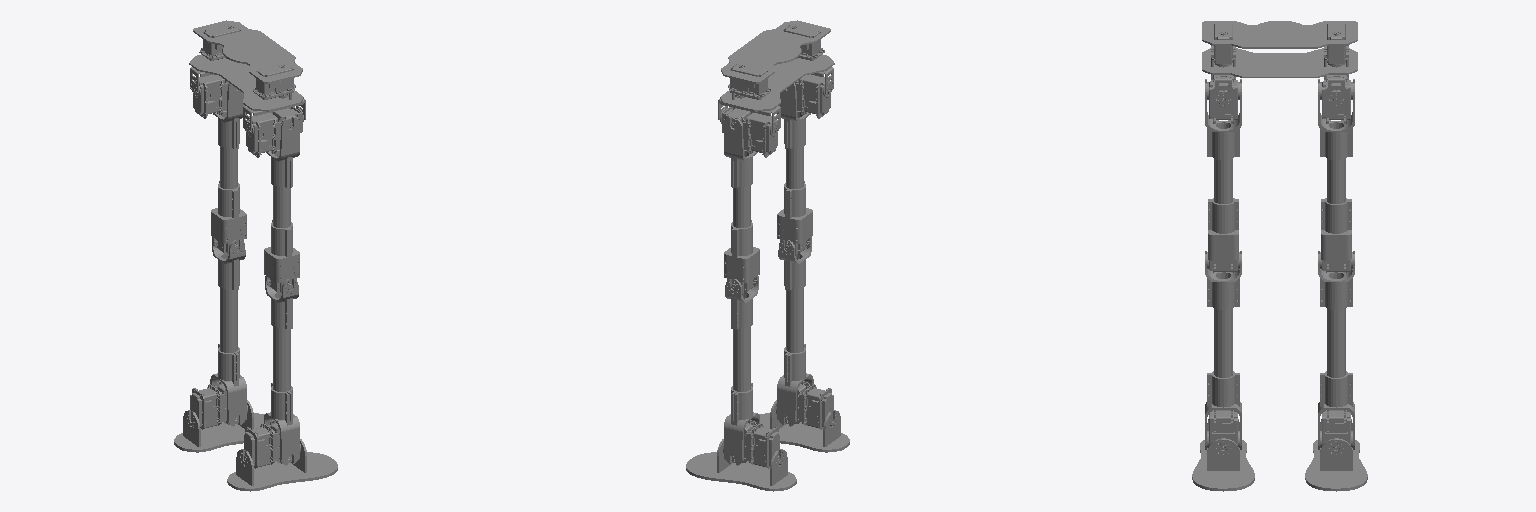
--- Facts derived from the render (not from the file) ---
Views: 3 orthographic renders of the robot side by side, from view 1: azimuth 30°, elevation 25°; view 2: azimuth 150°, elevation 25°; view 3: azimuth 270°, elevation 25°.
Robot: uthai — 15 links, 14 joints (12 revolute, 2 fixed); root link base_link; default pose: every joint at zero.
Links seen in each view (by area): view 1: base_footprint, r_hip_pitch_link, r_knee_pitch_link, l_knee_pitch_link, l_hip_pitch_link, r_ankle_roll_link, l_ankle_roll_link, r_hip_roll_link, l_ankle_pitch_link, r_ankle_pitch_link, l_hip_roll_link; view 2: base_footprint, l_hip_pitch_link, l_knee_pitch_link, r_knee_pitch_link, r_hip_pitch_link, l_ankle_roll_link, r_ankle_roll_link, l_hip_roll_link, l_ankle_pitch_link, r_ankle_pitch_link, r_hip_roll_link; view 3: base_footprint, r_hip_pitch_link, l_hip_pitch_link, l_knee_pitch_link, r_knee_pitch_link, r_ankle_roll_link, l_ankle_roll_link, r_ankle_pitch_link, l_ankle_pitch_link, r_hip_roll_link, l_hip_roll_link.
Link boxes in pixels (x1,y1,x2,y2): base_footprint: [189, 20, 303, 111]; r_hip_pitch_link: [264, 117, 299, 293]; r_knee_pitch_link: [264, 276, 299, 465]; l_knee_pitch_link: [210, 237, 246, 426]; l_hip_pitch_link: [211, 83, 246, 254]; r_ankle_roll_link: [227, 439, 337, 491]; l_ankle_roll_link: [174, 400, 264, 452]; r_hip_roll_link: [245, 107, 303, 157]; l_ankle_pitch_link: [190, 381, 247, 429]; r_ankle_pitch_link: [244, 420, 300, 468]; l_hip_roll_link: [192, 74, 236, 118]; base_footprint: [720, 20, 834, 111]; l_hip_pitch_link: [724, 117, 759, 294]; l_knee_pitch_link: [724, 276, 759, 465]; r_knee_pitch_link: [777, 237, 813, 426]; r_hip_pitch_link: [777, 83, 812, 255]; l_ankle_roll_link: [686, 439, 796, 491]; r_ankle_roll_link: [759, 400, 849, 452]; l_hip_roll_link: [720, 107, 778, 157]; l_ankle_pitch_link: [723, 420, 779, 468]; r_ankle_pitch_link: [776, 381, 833, 429]; r_hip_roll_link: [787, 74, 831, 118]; base_footprint: [1202, 21, 1357, 77]; r_hip_pitch_link: [1205, 79, 1241, 272]; l_hip_pitch_link: [1318, 79, 1354, 272]; l_knee_pitch_link: [1318, 251, 1354, 449]; r_knee_pitch_link: [1205, 251, 1241, 449]; r_ankle_roll_link: [1192, 419, 1254, 491]; l_ankle_roll_link: [1305, 419, 1367, 491]; r_ankle_pitch_link: [1207, 409, 1239, 452]; l_ankle_pitch_link: [1320, 409, 1352, 452]; r_hip_roll_link: [1207, 75, 1239, 123]; l_hip_roll_link: [1320, 75, 1352, 123].
Size in the robot's own frame: 0.2 by 0.2799 by 0.7605 metres.
Meshes: 13 distinct files referenced, 13 mesh visuals loaded (13 binary STL).

The robot description file, URDF, robot "uthai":
<?xml version="1.0" ?>
<!-- =================================================================================== -->
<!-- |    This document was autogenerated by xacro from uthai.urdf.xacro               | -->
<!-- |    EDITING THIS FILE BY HAND IS NOT RECOMMENDED                                 | -->
<!-- =================================================================================== -->
<robot name="uthai" xmlns:xacro="http://www.ros.org/wiki/xacro">
  <material name="black">
    <color rgba="0.0 0.0 0.0 1.0"/>
  </material>
  <material name="blue">
    <color rgba="0.0 0.0 0.8 1.0"/>
  </material>
  <material name="green">
    <color rgba="0.0 0.8 0.0 1.0"/>
  </material>
  <material name="grey">
    <color rgba="0.6 0.6 0.6 1.0"/>
  </material>
  <material name="orange">
    <color rgba="1.0 0.423529411765 0.0392156862745 1.0"/>
  </material>
  <material name="brown">
    <color rgba="0.870588235294 0.811764705882 0.764705882353 1.0"/>
  </material>
  <material name="red">
    <color rgba="0.8 0.0 0.0 1.0"/>
  </material>
  <material name="white">
    <color rgba="1.0 1.0 1.0 1.0"/>
  </material>
  <!-- ros_control plugin -->
  <gazebo>
    <plugin filename="libgazebo_ros_control.so" name="gazebo_ros_control">
      <robotNamespace>/uthai</robotNamespace>
    </plugin>
  </gazebo>
  <gazebo>
    <plugin filename="libgazebo_ros_p3d.so" name="ground_truth">
      <frameName>map</frameName>
      <bodyName>base_link</bodyName>
      <topicName>/uthai/odom</topicName>
      <updateRate>100.0</updateRate>
    </plugin>
  </gazebo>
  <!-- <gazebo><plugin name="imu_plugin" filename="libgazebo_ros_imu.so"><alwaysOn>true</alwaysOn><bodyName>imu_link</bodyName><topicName>/uthai/sensor/imu</topicName><serviceName>imu_service</serviceName><gaussianNoise>0.0</gaussianNoise><updateRate>10.0</updateRate><imu><noise><type>gaussian</type><rate><mean>0.0</mean><stddev>2e-4</stddev><bias_mean>0.0000075</bias_mean><bias_stddev>0.0000008</bias_stddev></rate><accel><mean>0.0</mean><stddev>1.7e-2</stddev><bias_mean>0.1</bias_mean><bias_stddev>0.001</bias_stddev></accel></noise></imu></plugin></gazebo>-->
  <!-- imu sensor -->
  <gazebo reference="imu_link">
    <gravity>true</gravity>
    <sensor name="imu_sensor" type="imu">
      <always_on>true</always_on>
      <update_rate>100</update_rate>
      <visualize>true</visualize>
      <topic>/uthai/sensor/imu</topic>
      <plugin filename="libgazebo_ros_imu_sensor.so" name="imu_plugin">
        <topicName>uthai/sensor/imu</topicName>
        <bodyName>imu_link</bodyName>
        <updateRateHZ>10.0</updateRateHZ>
        <gaussianNoise>0.0</gaussianNoise>
        <xyzOffset>0 0 0</xyzOffset>
        <rpyOffset>0 0 0</rpyOffset>
        <frameName>imu_link</frameName>
      </plugin>
      <pose>0 0 0 0 0 0</pose>
    </sensor>
  </gazebo>
  <!-- World -->
  <!--<gazebo reference="world"></gazebo>-->
  <!-- Base -->
  <gazebo reference="base_link"/>
  <!-- IMU -->
  <gazebo reference="imu_link"/>
  <!-- Body-->
  <gazebo reference="base_footprint">
    <mu1>0.2</mu1>
    <mu2>0.2</mu2>
    <material>Gazebo/Grey</material>
    <selfCollide>false</selfCollide>
  </gazebo>
  <!-- Left Leg -->
  <gazebo reference="l_hip_yaw_link">
    <mu1>0.2</mu1>
    <mu2>0.2</mu2>
    <material>Gazebo/Grey</material>
    <selfCollide>false</selfCollide>
  </gazebo>
  <gazebo reference="l_hip_roll_link">
    <mu1>0.2</mu1>
    <mu2>0.2</mu2>
    <material>Gazebo/Grey</material>
    <selfCollide>false</selfCollide>
  </gazebo>
  <gazebo reference="l_hip_pitch_link">
    <mu1>0.2</mu1>
    <mu2>0.2</mu2>
    <material>Gazebo/Grey</material>
    <selfCollide>false</selfCollide>
  </gazebo>
  <gazebo reference="l_knee_pitch_link">
    <mu1>0.2</mu1>
    <mu2>0.2</mu2>
    <material>Gazebo/Grey</material>
    <selfCollide>false</selfCollide>
  </gazebo>
  <gazebo reference="l_ankle_pitch_link">
    <mu1>0.2</mu1>
    <mu2>0.2</mu2>
    <material>Gazebo/Grey</material>
    <selfCollide>false</selfCollide>
  </gazebo>
  <gazebo reference="l_ankle_roll_link">
    <kp>100000.0</kp>
    <kd>100.0</kd>
    <mu1>1.5</mu1>
    <mu2>1.5</mu2>
    <!--<maxContacts>30</maxContacts>-->
    <fdir1>1 0 0</fdir1>
    <maxVel>1.0</maxVel>
    <minDepth>0.001</minDepth>
    <material>Gazebo/Blue</material>
  </gazebo>
  <!-- Right Leg -->
  <gazebo reference="r_hip_yaw_link">
    <mu1>0.2</mu1>
    <mu2>0.2</mu2>
    <material>Gazebo/Grey</material>
    <selfCollide>false</selfCollide>
  </gazebo>
  <gazebo reference="r_hip_roll_link">
    <mu1>0.2</mu1>
    <mu2>0.2</mu2>
    <material>Gazebo/Grey</material>
    <selfCollide>false</selfCollide>
  </gazebo>
  <gazebo reference="r_hip_pitch_link">
    <mu1>0.2</mu1>
    <mu2>0.2</mu2>
    <material>Gazebo/Grey</material>
    <selfCollide>false</selfCollide>
  </gazebo>
  <gazebo reference="r_knee_pitch_link">
    <mu1>0.2</mu1>
    <mu2>0.2</mu2>
    <material>Gazebo/Grey</material>
    <selfCollide>false</selfCollide>
  </gazebo>
  <gazebo reference="r_ankle_pitch_link">
    <mu1>0.2</mu1>
    <mu2>0.2</mu2>
    <material>Gazebo/Grey</material>
    <selfCollide>false</selfCollide>
  </gazebo>
  <gazebo reference="r_ankle_roll_link">
    <kp>100000.0</kp>
    <kd>100.0</kd>
    <mu1>1.5</mu1>
    <mu2>1.5</mu2>
    <!--<maxContacts>30</maxContacts>-->
    <fdir1>1 0 0</fdir1>
    <maxVel>1.0</maxVel>
    <minDepth>0.0001</minDepth>
    <material>Gazebo/Blue</material>
  </gazebo>
  <!-- Used for fixing robot -->
  <!-- <link name="world"></link> -->
  <!-- <joint name="world_fixed" type="fixed"><origin xyz="0 0 0.756" rpy="0 0 0"/><parent link="world"/><child link="base"/></joint> -->
  <link name="base_link"/>
  <joint name="base_fixed" type="fixed">
    <origin rpy="0 0 0" xyz="0 0 0"/>
    <parent link="base_link"/>
    <child link="base_footprint"/>
  </joint>
  <!-- base_link -->
  <link name="base_footprint">
    <visual>
      <origin rpy="0 0 0" xyz="0 0 0"/>
      <geometry>
        <mesh filename="package://uthai_description/meshes/base.STL" scale="1 1 1"/>
      </geometry>
      <material name="grey"/>
    </visual>
    <collision>
      <origin rpy="0 0 0" xyz="0 0 0"/>
      <geometry>
        <mesh filename="package://uthai_description/meshes/base.STL" scale="1 1 1"/>
      </geometry>
      <material name="grey"/>
    </collision>
    <inertial>
      <origin xyz="-0.00557436 0.00000000 -0.02356598"/>
      <mass value="0.86500000"/>
      <inertia ixx="0.00656431" ixy="-0.00000003" ixz="-0.00000466" iyy="0.00067608" iyz="0.00000000" izz="0.00664141"/>
    </inertial>
  </link>
  <!-- imu joint -->
  <joint name="imu_fixed" type="fixed">
    <origin rpy="0 0 0" xyz="0.0 0 0.45"/>
    <parent link="base_footprint"/>
    <child link="imu_link"/>
  </joint>
  <link name="imu_link"/>
  <!-- right hip yaw joint -->
  <joint name="r_hip_yaw_joint" type="revolute">
    <axis xyz="0 0 1"/>
    <origin rpy="0 0 -1.570796327" xyz="0.008 -0.09 -0.06"/>
    <parent link="base_footprint"/>
    <child link="r_hip_yaw_link"/>
    <limit effort="1000" lower="-2.8274333886" upper="2.8274333886" velocity="100"/>
    <dynamics damping="0.1" friction="0.0"/>
  </joint>
  <transmission name="r_hip_yaw_joint_tran">
    <type>transmission_interface/SimpleTransmission</type>
    <joint name="r_hip_yaw_joint">
      <hardwareInterface>EffortJointInterface</hardwareInterface>
    </joint>
    <actuator name="r_hip_yaw_joint_motor">
      <hardwareInterface>EffortJointInterface</hardwareInterface>
      <mechanicalReduction>1</mechanicalReduction>
    </actuator>
  </transmission>
  <!-- right hip yaw link -->
  <link name="r_hip_yaw_link">
    <visual>
      <origin rpy="0 0 0" xyz="0 0 0"/>
      <geometry>
        <mesh filename="package://uthai_description/meshes/r_hip_yaw.STL" scale="1 1 1"/>
      </geometry>
      <material name="grey"/>
    </visual>
    <collision>
      <origin rpy="0 0 0" xyz="0 0 0"/>
      <geometry>
        <mesh filename="package://uthai_description/meshes/r_hip_yaw.STL" scale="1 1 1"/>
      </geometry>
      <material name="grey"/>
    </collision>
    <inertial>
      <origin xyz="0.00000000 -0.02500000 -0.00735017"/>
      <mass value="0.09100000"/>
      <inertia ixx="0.00014158" ixy="0.00000000" ixz="0.00000000" iyy="0.00002022" iyz="0.00000000" izz="0.00014316"/>
    </inertial>
  </link>
  <!-- right hip roll joint-->
  <joint name="r_hip_roll_joint" type="revolute">
    <axis xyz="0 0 1"/>
    <origin rpy="1.570796327 0 3.141592654" xyz="0 0 -0.036"/>
    <parent link="r_hip_yaw_link"/>
    <child link="r_hip_roll_link"/>
    <limit effort="1000" lower="-2.8274333886" upper="2.8274333886" velocity="100"/>
    <dynamics damping="0.1" friction="0.0"/>
  </joint>
  <transmission name="r_hip_roll_joint_tran">
    <type>transmission_interface/SimpleTransmission</type>
    <joint name="r_hip_roll_joint">
      <hardwareInterface>EffortJointInterface</hardwareInterface>
    </joint>
    <actuator name="r_hip_roll_joint_motor">
      <hardwareInterface>EffortJointInterface</hardwareInterface>
      <mechanicalReduction>1</mechanicalReduction>
    </actuator>
  </transmission>
  <!-- right hip roll link -->
  <link name="r_hip_roll_link">
    <visual>
      <origin rpy="0 0 0" xyz="0 0 0"/>
      <geometry>
        <mesh filename="package://uthai_description/meshes/r_hip_roll.STL" scale="1 1 1"/>
      </geometry>
      <material name="grey"/>
    </visual>
    <collision>
      <origin rpy="0 0 0" xyz="0 0 0"/>
      <geometry>
        <mesh filename="package://uthai_description/meshes/r_hip_roll.STL" scale="1 1 1"/>
      </geometry>
      <material name="grey"/>
    </collision>
    <inertial>
      <origin xyz="0.00000000 -0.01526210 -0.02652545"/>
      <mass value="0.34300000"/>
      <inertia ixx="0.00032449" ixy="0.00000081" ixz="0.00000000" iyy="0.00026847" iyz="0.00000219" izz="0.00014760"/>
    </inertial>
  </link>
  <!-- right hip pitch joint -->
  <joint name="r_hip_pitch_joint" type="revolute">
    <axis xyz="0 0 1"/>
    <origin rpy="-1.570796327 0 -1.570796327" xyz="0 0 -0.005"/>
    <parent link="r_hip_roll_link"/>
    <child link="r_hip_pitch_link"/>
    <limit effort="1000" lower="-2.8274333886" upper="2.8274333886" velocity="100"/>
    <dynamics damping="0.1" friction="0.0"/>
  </joint>
  <transmission name="r_hip_pitch_joint_tran">
    <type>transmission_interface/SimpleTransmission</type>
    <joint name="r_hip_pitch_joint">
      <hardwareInterface>EffortJointInterface</hardwareInterface>
    </joint>
    <actuator name="r_hip_pitch_joint_motor">
      <hardwareInterface>EffortJointInterface</hardwareInterface>
      <mechanicalReduction>1</mechanicalReduction>
    </actuator>
  </transmission>
  <!-- right hip pitch link -->
  <link name="r_hip_pitch_link">
    <visual>
      <origin rpy="0 0 0" xyz="0 0 0"/>
      <geometry>
        <mesh filename="package://uthai_description/meshes/r_hip_pitch.STL" scale="1 1 1"/>
      </geometry>
      <material name="grey"/>
    </visual>
    <collision>
      <origin rpy="0 0 0" xyz="0 0 0"/>
      <geometry>
        <mesh filename="package://uthai_description/meshes/r_hip_pitch.STL" scale="1 1 1"/>
      </geometry>
      <material name="grey"/>
    </collision>
    <inertial>
      <origin xyz="0.22137989 0.00000000 0.00000000"/>
      <mass value="0.31800000"/>
      <inertia ixx="0.00011525" ixy="0.00000000" ixz="0.00000078" iyy="0.00254669" iyz="0.00000000" izz="0.00250848"/>
    </inertial>
  </link>
  <!-- right knee pitch joint -->
  <joint name="r_knee_pitch_joint" type="revolute">
    <axis xyz="0 0 1"/>
    <origin rpy="0 0 0" xyz="0.3 0 0"/>
    <parent link="r_hip_pitch_link"/>
    <child link="r_knee_pitch_link"/>
    <limit effort="1000" lower="-2.8274333886" upper="2.8274333886" velocity="100"/>
    <dynamics damping="0.1" friction="0.0"/>
  </joint>
  <transmission name="r_knee_pitch_joint_tran">
    <type>transmission_interface/SimpleTransmission</type>
    <joint name="r_knee_pitch_joint">
      <hardwareInterface>EffortJointInterface</hardwareInterface>
    </joint>
    <actuator name="r_knee_pitch_joint_motor">
      <hardwareInterface>EffortJointInterface</hardwareInterface>
      <mechanicalReduction>1</mechanicalReduction>
    </actuator>
  </transmission>
  <!-- right knee pitch link -->
  <link name="r_knee_pitch_link">
    <visual>
      <origin rpy="0 0 0" xyz="0 0 0"/>
      <geometry>
        <mesh filename="package://uthai_description/meshes/r_knee_pitch.STL" scale="1 1 1"/>
      </geometry>
      <material name="grey"/>
    </visual>
    <collision>
      <origin rpy="0 0 0" xyz="0 0 0"/>
      <geometry>
        <mesh filename="package://uthai_description/meshes/r_knee_pitch.STL" scale="1 1 1"/>
      </geometry>
      <material name="grey"/>
    </collision>
    <inertial>
      <origin xyz="0.16288218 0.00000000 0.00000000"/>
      <mass value="0.15100000"/>
      <inertia ixx="0.00006340" ixy="0.0" ixz="0.0" iyy="0.00139612" iyz="0.0" izz="0.00136731"/>
    </inertial>
  </link>
  <!-- right ankle pitch joint -->
  <joint name="r_ankle_pitch_joint" type="revolute">
    <axis xyz="0 0 1"/>
    <origin rpy="0 0 0" xyz="0.315 0 0"/>
    <parent link="r_knee_pitch_link"/>
    <child link="r_ankle_pitch_link"/>
    <limit effort="1000" lower="-2.8274333886" upper="2.8274333886" velocity="100"/>
    <dynamics damping="0.1" friction="0.0"/>
  </joint>
  <transmission name="r_ankle_pitch_joint_tran">
    <type>transmission_interface/SimpleTransmission</type>
    <joint name="r_ankle_pitch_joint">
      <hardwareInterface>EffortJointInterface</hardwareInterface>
    </joint>
    <actuator name="r_ankle_pitch_joint_motor">
      <hardwareInterface>EffortJointInterface</hardwareInterface>
      <mechanicalReduction>1</mechanicalReduction>
    </actuator>
  </transmission>
  <!-- right ankle pitch link -->
  <link name="r_ankle_pitch_link">
    <visual>
      <origin rpy="0 0 0" xyz="0 0 0"/>
      <geometry>
        <mesh filename="package://uthai_description/meshes/r_ankle_pitch.STL" scale="1 1 1"/>
      </geometry>
      <material name="grey"/>
    </visual>
    <collision>
      <origin rpy="0 0 0" xyz="0 0 0"/>
      <geometry>
        <mesh filename="package://uthai_description/meshes/r_ankle_pitch.STL" scale="1 1 1"/>
      </geometry>
      <material name="grey"/>
    </collision>
    <inertial>
      <origin xyz="-0.01526210 0.02152545 0.00000000"/>
      <mass value="0.34300000"/>
      <inertia ixx="0.00026847" ixy="-0.00000219" ixz="-0.00000081" iyy="0.00014760" iyz="0.00000000" izz="0.00032449"/>
    </inertial>
  </link>
  <!-- right ankle roll pitch -->
  <joint name="r_ankle_roll_joint" type="revolute">
    <axis xyz="0 0 1"/>
    <origin rpy="1.570796327 0 0" xyz="0 0 0"/>
    <parent link="r_ankle_pitch_link"/>
    <child link="r_ankle_roll_link"/>
    <limit effort="1000" lower="-2.8274333886" upper="2.8274333886" velocity="100"/>
    <dynamics damping="0.1" friction="0.0"/>
  </joint>
  <transmission name="r_ankle_roll_joint_tran">
    <type>transmission_interface/SimpleTransmission</type>
    <joint name="r_ankle_roll_joint">
      <hardwareInterface>EffortJointInterface</hardwareInterface>
    </joint>
    <actuator name="r_ankle_roll_joint_motor">
      <hardwareInterface>EffortJointInterface</hardwareInterface>
      <mechanicalReduction>1</mechanicalReduction>
    </actuator>
  </transmission>
  <!-- right ankle roll link -->
  <link name="r_ankle_roll_link">
    <visual>
      <origin rpy="0 0 0" xyz="0 0 0"/>
      <geometry>
        <mesh filename="package://uthai_description/meshes/r_ankle_roll.STL" scale="1 1 1"/>
      </geometry>
      <material name="grey"/>
    </visual>
    <collision>
      <origin rpy="0 0 0" xyz="0 0 0"/>
      <geometry>
        <mesh filename="package://uthai_description/meshes/r_ankle_roll.STL" scale="1 1 1"/>
      </geometry>
      <material name="grey"/>
    </collision>
    <inertial>
      <origin xyz="0.03625882 -0.00019548 0.00034576"/>
      <mass value="0.10500000"/>
      <inertia ixx="0.00034591" ixy="-0.00000013" ixz="0.00000857" iyy="0.00032705" iyz="0.00000120" izz="0.00004813"/>
    </inertial>
  </link>
  <!-- right ft fixed joint -->
  <!--<joint name="r_ft_fixed" type="fixed">
            <origin xyz="0.045 0.0 0.0" rpy="0 ${-pi/2} 0"/>
            <parent link="r_ankle_roll_link"/>
            <child link="r_foot_ft_link"/>
        </joint>-->
  <!-- right foot ft link -->
  <!--<link name="r_foot_ft_link"></link>-->
  <!-- left hip yaw joint -->
  <joint name="l_hip_yaw_joint" type="revolute">
    <axis xyz="0 0 1"/>
    <origin rpy="0 0 1.570796327" xyz="0.008 0.09 -0.06"/>
    <parent link="base_footprint"/>
    <child link="l_hip_yaw_link"/>
    <limit effort="1000" lower="-2.8274333886" upper="2.8274333886" velocity="100"/>
    <dynamics damping="0.1" friction="0.0"/>
  </joint>
  <transmission name="l_hip_yaw_joint_tran">
    <type>transmission_interface/SimpleTransmission</type>
    <joint name="l_hip_yaw_joint">
      <hardwareInterface>EffortJointInterface</hardwareInterface>
    </joint>
    <actuator name="l_hip_yaw_joint_motor">
      <hardwareInterface>EffortJointInterface</hardwareInterface>
      <mechanicalReduction>1</mechanicalReduction>
    </actuator>
  </transmission>
  <!-- left hip yaw link -->
  <link name="l_hip_yaw_link">
    <visual>
      <origin rpy="0 0 0" xyz="0 0 0"/>
      <geometry>
        <mesh filename="package://uthai_description/meshes/l_hip_yaw.STL" scale="1 1 1"/>
      </geometry>
      <material name="grey"/>
    </visual>
    <collision>
      <origin rpy="0 0 0" xyz="0 0 0"/>
      <geometry>
        <mesh filename="package://uthai_description/meshes/l_hip_yaw.STL" scale="1 1 1"/>
      </geometry>
      <material name="grey"/>
    </collision>
    <inertial>
      <origin xyz="0.00000000 0.02500000 -0.00735017"/>
      <mass value="0.09100000"/>
      <inertia ixx="0.00014158" ixy="0.0" ixz="0.0" iyy="0.00002022" iyz="0.0" izz="0.00014316"/>
    </inertial>
  </link>
  <!-- left hip roll joint-->
  <joint name="l_hip_roll_joint" type="revolute">
    <axis xyz="0 0 1"/>
    <origin rpy="1.570796327 0 0" xyz="0 0 -0.036"/>
    <parent link="l_hip_yaw_link"/>
    <child link="l_hip_roll_link"/>
    <limit effort="1000" lower="-2.8274333886" upper="2.8274333886" velocity="100"/>
    <dynamics damping="0.1" friction="0.0"/>
  </joint>
  <transmission name="l_hip_roll_joint_tran">
    <type>transmission_interface/SimpleTransmission</type>
    <joint name="l_hip_roll_joint">
      <hardwareInterface>EffortJointInterface</hardwareInterface>
    </joint>
    <actuator name="l_hip_roll_joint_motor">
      <hardwareInterface>EffortJointInterface</hardwareInterface>
      <mechanicalReduction>1</mechanicalReduction>
    </actuator>
  </transmission>
  <!-- left hip roll link -->
  <link name="l_hip_roll_link">
    <visual>
      <origin rpy="0 0 0" xyz="0 0 0"/>
      <geometry>
        <mesh filename="package://uthai_description/meshes/l_hip_roll.STL" scale="1 1 1"/>
      </geometry>
      <material name="grey"/>
    </visual>
    <collision>
      <origin rpy="0 0 0" xyz="0 0 0"/>
      <geometry>
        <mesh filename="package://uthai_description/meshes/l_hip_roll.STL" scale="1 1 1"/>
      </geometry>
      <material name="grey"/>
    </collision>
    <inertial>
      <origin xyz="0.00000000 -0.01526210 -0.02652545"/>
      <mass value="0.34300000"/>
      <inertia ixx="0.00032449" ixy="-0.00000081" ixz="0.00000000" iyy="0.00026847" iyz="0.00000219" izz="0.00014760"/>
    </inertial>
  </link>
  <!-- left hip pitch joint -->
  <joint name="l_hip_pitch_joint" type="revolute">
    <axis xyz="0 0 1"/>
    <origin rpy="-1.570796327 0 -1.570796327" xyz="0 0 -0.005"/>
    <parent link="l_hip_roll_link"/>
    <child link="l_hip_pitch_link"/>
    <limit effort="1000" lower="-2.8274333886" upper="2.8274333886" velocity="100"/>
    <dynamics damping="0.1" friction="0.0"/>
  </joint>
  <transmission name="l_hip_pitch_joint_tran">
    <type>transmission_interface/SimpleTransmission</type>
    <joint name="l_hip_pitch_joint">
      <hardwareInterface>EffortJointInterface</hardwareInterface>
    </joint>
    <actuator name="l_hip_pitch_joint_motor">
      <hardwareInterface>EffortJointInterface</hardwareInterface>
      <mechanicalReduction>1</mechanicalReduction>
    </actuator>
  </transmission>
  <!-- left hip pitch link -->
  <link name="l_hip_pitch_link">
    <visual>
      <origin rpy="0 0 0" xyz="0 0 0"/>
      <geometry>
        <mesh filename="package://uthai_description/meshes/l_hip_pitch.STL" scale="1 1 1"/>
      </geometry>
      <material name="grey"/>
    </visual>
    <collision>
      <origin rpy="0 0 0" xyz="0 0 0"/>
      <geometry>
        <mesh filename="package://uthai_description/meshes/l_hip_pitch.STL" scale="1 1 1"/>
      </geometry>
      <material name="grey"/>
    </collision>
    <inertial>
      <origin xyz="0.22137989 0.00000000 0.00000000"/>
      <mass value="0.31800000"/>
      <inertia ixx="0.00011525" ixy="0.00000000" ixz="0.00000078" iyy="0.00254669" iyz="0.00000000" izz="0.00250848"/>
    </inertial>
  </link>
  <!-- left knee pitch joint -->
  <joint name="l_knee_pitch_joint" type="revolute">
    <axis xyz="0 0 1"/>
    <origin rpy="0 0 0" xyz="0.3 0 0"/>
    <parent link="l_hip_pitch_link"/>
    <child link="l_knee_pitch_link"/>
    <limit effort="1000" lower="-2.8274333886" upper="2.8274333886" velocity="100"/>
    <dynamics damping="0.1" friction="0.0"/>
  </joint>
  <transmission name="l_knee_pitch_joint_tran">
    <type>transmission_interface/SimpleTransmission</type>
    <joint name="l_knee_pitch_joint">
      <hardwareInterface>EffortJointInterface</hardwareInterface>
    </joint>
    <actuator name="l_knee_pitch_joint_motor">
      <hardwareInterface>EffortJointInterface</hardwareInterface>
      <mechanicalReduction>1</mechanicalReduction>
    </actuator>
  </transmission>
  <!-- left knee pitch link -->
  <link name="l_knee_pitch_link">
    <visual>
      <origin rpy="0 0 0" xyz="0 0 0"/>
      <geometry>
        <mesh filename="package://uthai_description/meshes/l_knee_pitch.STL" scale="1 1 1"/>
      </geometry>
      <material name="grey"/>
    </visual>
    <collision>
      <origin rpy="0 0 0" xyz="0 0 0"/>
      <geometry>
        <mesh filename="package://uthai_description/meshes/l_knee_pitch.STL" scale="1 1 1"/>
      </geometry>
      <material name="grey"/>
    </collision>
    <inertial>
      <origin xyz="0.16288218 0.00000000 0.00000000"/>
      <mass value="0.15100000"/>
      <inertia ixx="0.00006340" ixy="0.0" ixz="0.0" iyy="0.00139612" iyz="0.0" izz="0.00136731"/>
    </inertial>
  </link>
  <!-- left ankle pitch joint -->
  <joint name="l_ankle_pitch_joint" type="revolute">
    <axis xyz="0 0 1"/>
    <origin rpy="0 0 0" xyz="0.315 0 0"/>
    <parent link="l_knee_pitch_link"/>
    <child link="l_ankle_pitch_link"/>
    <limit effort="1000" lower="-2.8274333886" upper="2.8274333886" velocity="100"/>
    <dynamics damping="0.1" friction="0.0"/>
  </joint>
  <transmission name="l_ankle_pitch_joint_tran">
    <type>transmission_interface/SimpleTransmission</type>
    <joint name="l_ankle_pitch_joint">
      <hardwareInterface>EffortJointInterface</hardwareInterface>
    </joint>
    <actuator name="l_ankle_pitch_joint_motor">
      <hardwareInterface>EffortJointInterface</hardwareInterface>
      <mechanicalReduction>1</mechanicalReduction>
    </actuator>
  </transmission>
  <!-- left ankle pitch link -->
  <link name="l_ankle_pitch_link">
    <visual>
      <origin rpy="0 0 0" xyz="0 0 0"/>
      <geometry>
        <mesh filename="package://uthai_description/meshes/l_ankle_pitch.STL" scale="1 1 1"/>
      </geometry>
      <material name="grey"/>
    </visual>
    <collision>
      <origin rpy="0 0 0" xyz="0 0 0"/>
      <geometry>
        <mesh filename="package://uthai_description/meshes/l_ankle_pitch.STL" scale="1 1 1"/>
      </geometry>
      <material name="grey"/>
    </collision>
    <inertial>
      <origin xyz="-0.01526210 0.02152545 0.00000000"/>
      <mass value="0.34300000"/>
      <inertia ixx="0.00026847" ixy="-0.00000219" ixz="-0.00000081" iyy="0.00014760" iyz="0.00000000" izz="0.00032449"/>
    </inertial>
  </link>
  <!-- left ankle roll pitch -->
  <joint name="l_ankle_roll_joint" type="revolute">
    <axis xyz="0 0 1"/>
    <origin rpy="1.570796327 0 0" xyz="0 0 0"/>
    <parent link="l_ankle_pitch_link"/>
    <child link="l_ankle_roll_link"/>
    <limit effort="1000" lower="-2.8274333886" upper="2.8274333886" velocity="100"/>
    <dynamics damping="0.1" friction="0.0"/>
  </joint>
  <transmission name="l_ankle_roll_joint_tran">
    <type>transmission_interface/SimpleTransmission</type>
    <joint name="l_ankle_roll_joint">
      <hardwareInterface>EffortJointInterface</hardwareInterface>
    </joint>
    <actuator name="l_ankle_roll_joint_motor">
      <hardwareInterface>EffortJointInterface</hardwareInterface>
      <mechanicalReduction>1</mechanicalReduction>
    </actuator>
  </transmission>
  <!-- left ankle roll link -->
  <link name="l_ankle_roll_link">
    <visual>
      <origin rpy="0 0 0" xyz="0 0 0"/>
      <geometry>
        <mesh filename="package://uthai_description/meshes/l_ankle_roll.STL" scale="1 1 1"/>
      </geometry>
      <material name="grey"/>
    </visual>
    <collision>
      <origin rpy="0 0 0" xyz="0 0 0"/>
      <geometry>
        <mesh filename="package://uthai_description/meshes/l_ankle_roll.STL" scale="1 1 1"/>
      </geometry>
      <material name="grey"/>
    </collision>
    <inertial>
      <origin xyz="0.03608455 0.00020160 0.00002697"/>
      <mass value="0.10500000"/>
      <inertia ixx="0.00034223" ixy="0.00000014" ixz="0.00000840" iyy="0.00032348" iyz="-0.00000118" izz="0.00004816"/>
    </inertial>
  </link>
  <!-- left ft fixed joint -->
  <!--<joint name="l_ft_fixed" type="fixed">
            <origin xyz="0.045 0.0 0.0" rpy="0 ${-pi/2} 0"/>
            <parent link="l_ankle_roll_link"/>
            <child link="l_foot_ft_link"/>
        </joint>-->
  <!-- left foot ft link -->
  <!--<link name="l_foot_ft_link"></link>-->
</robot>
